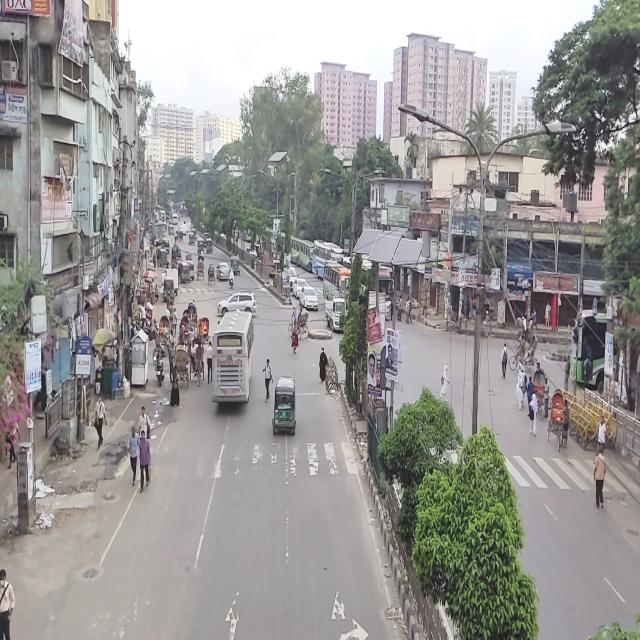white: (216, 290, 257, 318)
